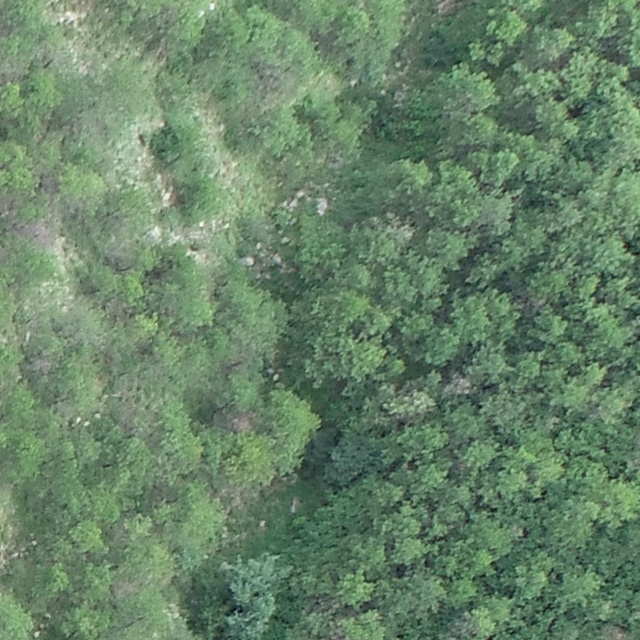unhealthy: (388, 385, 436, 422), (21, 219, 54, 248), (441, 372, 475, 399), (228, 410, 259, 434), (30, 352, 58, 376), (599, 623, 632, 640), (433, 0, 465, 17)
